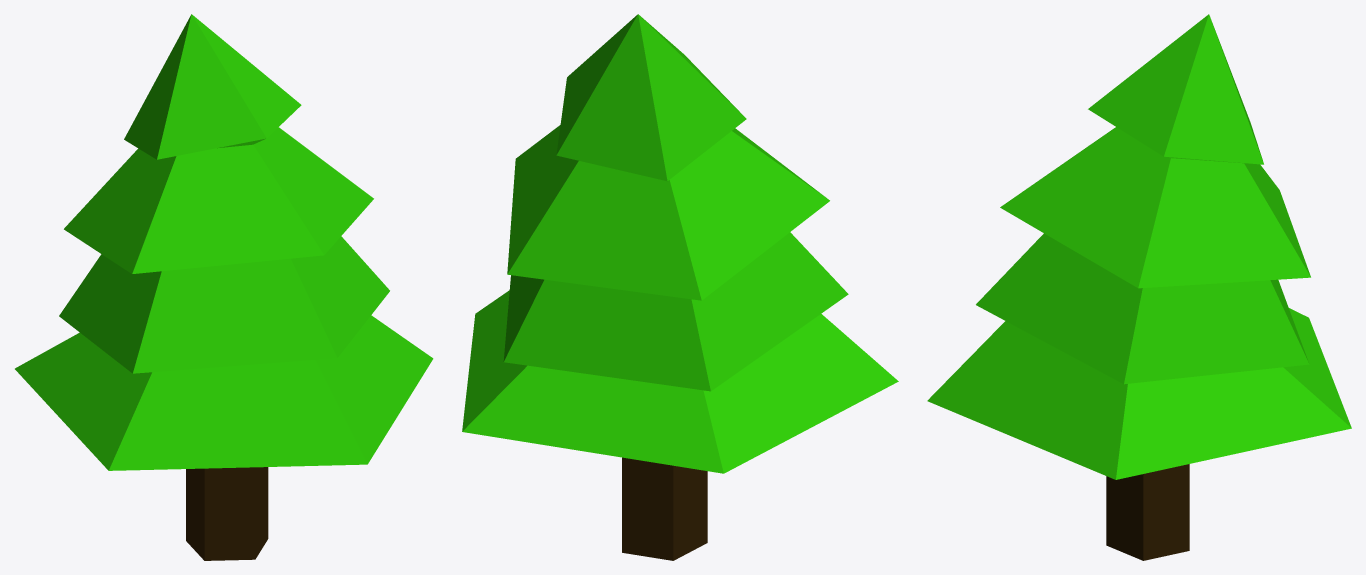
The model's file is Tree_2.fbx.
3 views of the same model, side by side, from view 1: azimuth 30°, elevation 25°; view 2: azimuth 150°, elevation 25°; view 3: azimuth 270°, elevation 25° (orthographic). The views are drawn at different scales.
Visible parts, largest first — view 1: Tree2; view 2: Tree2; view 3: Tree2.
Boxes of the visible parts, <box> form: Tree2: <box>15,14,433,560</box>; Tree2: <box>462,14,898,560</box>; Tree2: <box>927,14,1351,560</box>.
Bounding box in the file's own units: 275 × 375 × 275.
